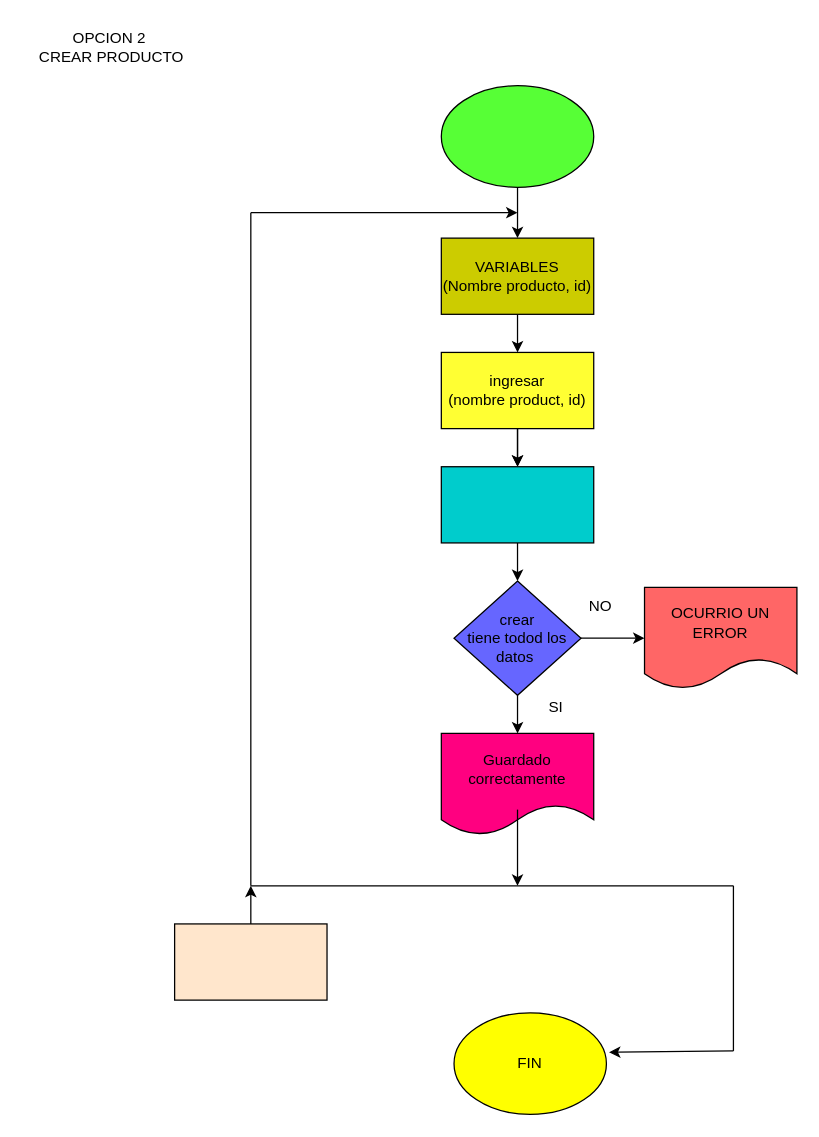
The diagram is 819 pixels wide and 1137 high, and some of its shapes have lost their labels. Each missing label, with the centre of its shape:
crear (nombre producto, id): the point at 517,504
INICIAR: the point at 517,135
regresar a inicio: the point at 250,961
